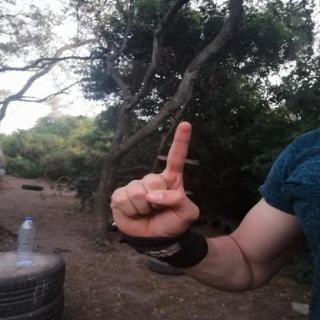BAA: (93, 115, 217, 252)
